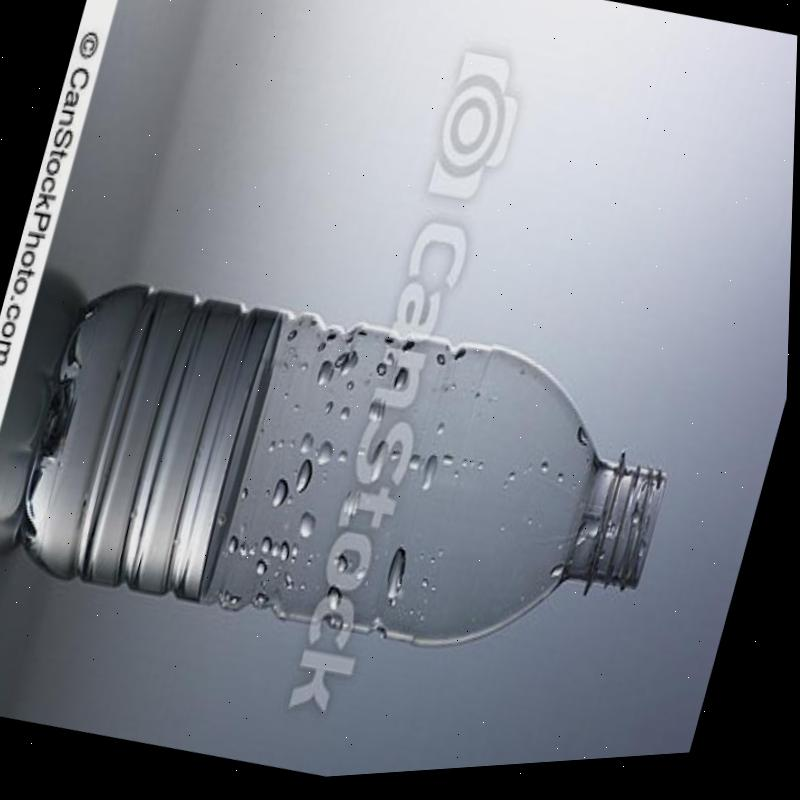botella: (0, 237, 701, 722)
